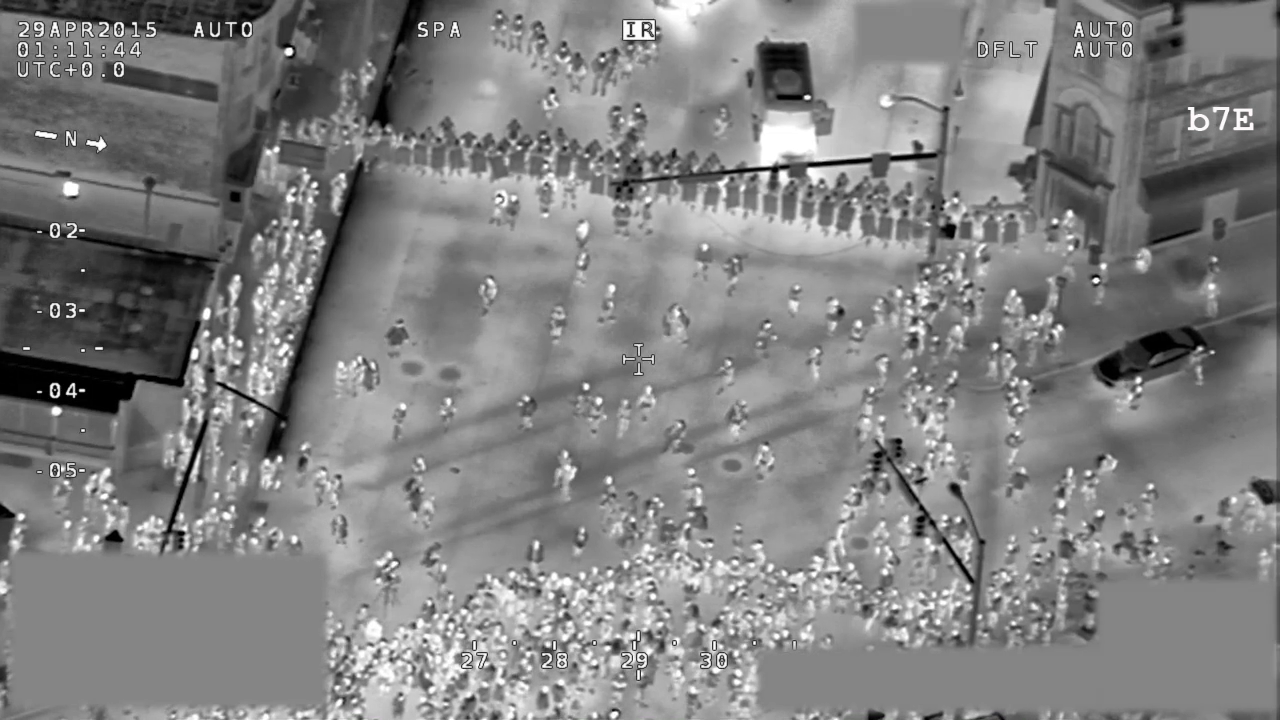vehicle: (746, 35, 836, 175), (1086, 323, 1209, 394)
